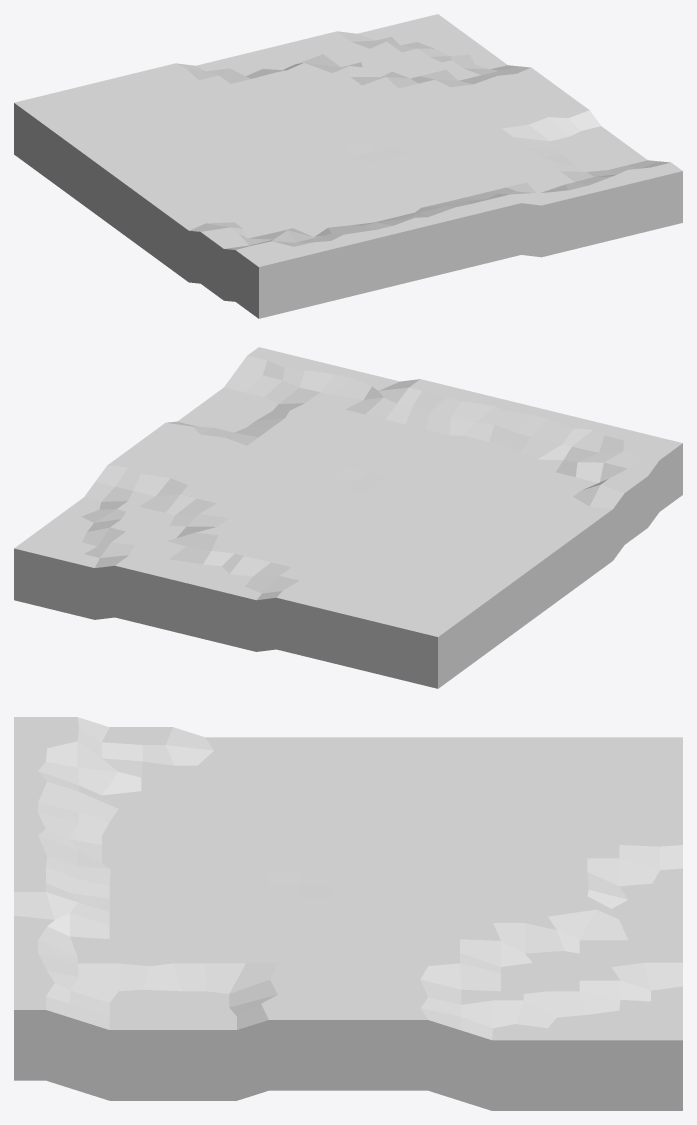
The model's file is Terrain-02.fbx.
3 renders of one model, top to bottom at view 1: azimuth 30°, elevation 25°; view 2: azimuth 150°, elevation 25°; view 3: azimuth 270°, elevation 25°, orthographic. The views are drawn at different scales.
Visible parts, largest first — view 1: Terrain-02; view 2: Terrain-02; view 3: Terrain-02.
Boxes of the visible parts, box(x1,y1,x2,y2) form: Terrain-02: box(14, 14, 682, 318); Terrain-02: box(14, 347, 682, 688); Terrain-02: box(14, 717, 682, 1110).
Bounding box in the file's own units: 300 × 55 × 300.
